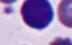L: (19, 0, 53, 30)
